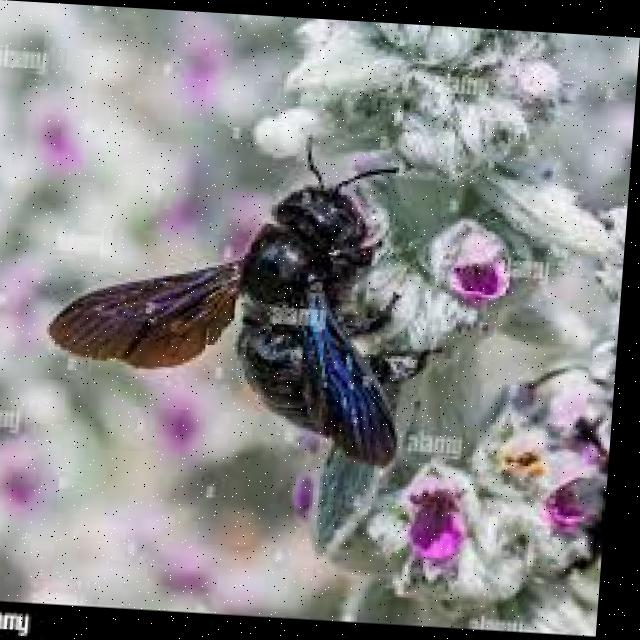Xylocopa: (53, 125, 481, 462)
